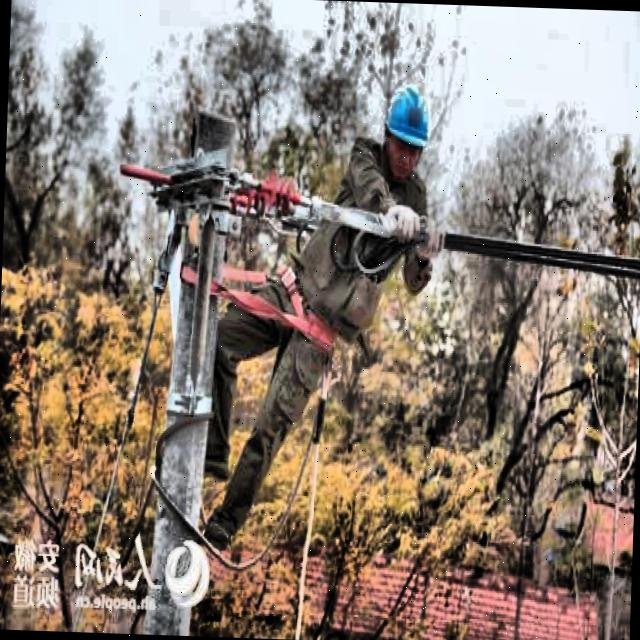helmet: (378, 79, 434, 188)
